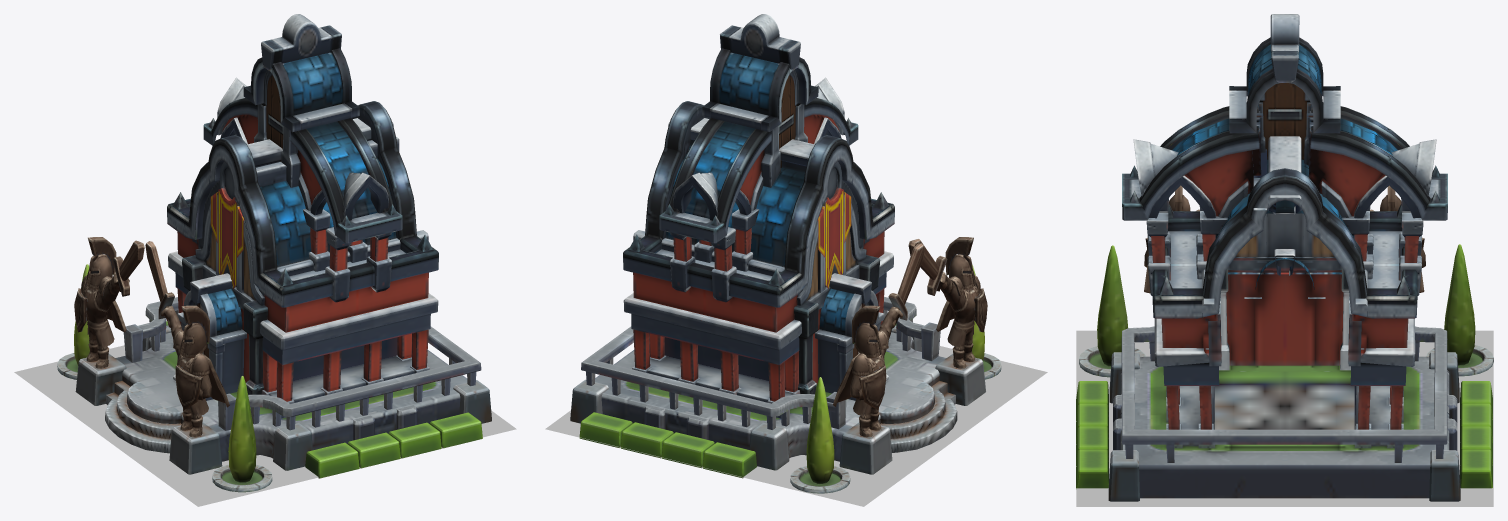
The model's file is C_Academy_LV4.fbx.
The picture shows the model from 3 angles, left to right: view 1: azimuth 30°, elevation 25°; view 2: azimuth 150°, elevation 25°; view 3: azimuth 270°, elevation 25°; orthographic projection. The views are drawn at different scales.
Parts seen in each view (by area): view 1: C_Academy_LV4_0_mesh, C_Academy_LV4_1_mesh; view 2: C_Academy_LV4_0_mesh, C_Academy_LV4_1_mesh; view 3: C_Academy_LV4_0_mesh, C_Academy_LV4_1_mesh.
Part boxes in pixels (bbox=[...]): C_Academy_LV4_0_mesh: bbox=[57, 14, 491, 492]; C_Academy_LV4_1_mesh: bbox=[14, 345, 516, 506]; C_Academy_LV4_0_mesh: bbox=[570, 14, 1001, 493]; C_Academy_LV4_1_mesh: bbox=[545, 346, 1047, 506]; C_Academy_LV4_0_mesh: bbox=[1076, 14, 1493, 501]; C_Academy_LV4_1_mesh: bbox=[1076, 330, 1493, 506].
Size of the model in its own units: 120 by 135 by 120.
